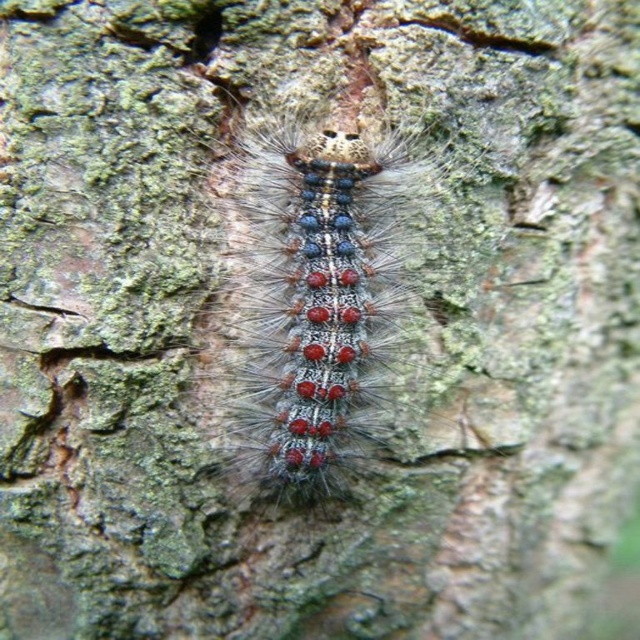Caterpillar: (204, 59, 435, 535)
